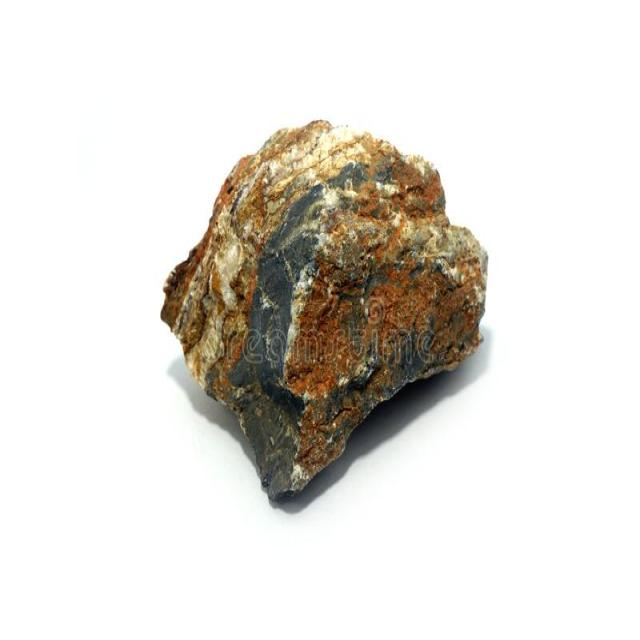Sedimentary: (146, 114, 518, 492)
